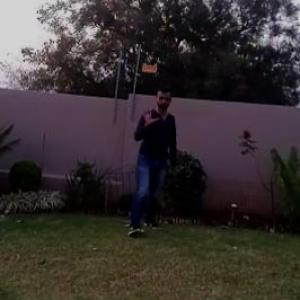follow_hand: (139, 102, 160, 130)
